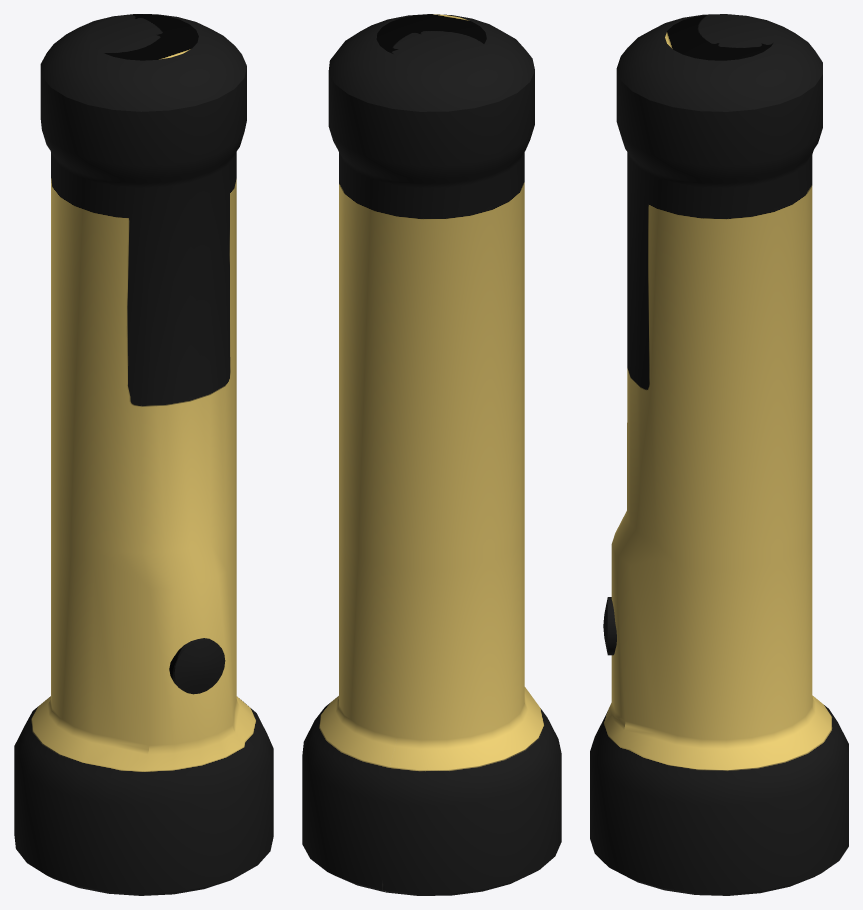
Rendered from flashlight_all.glb.
3 views of the same model, side by side, from view 1: azimuth 30°, elevation 25°; view 2: azimuth 150°, elevation 25°; view 3: azimuth 270°, elevation 25° (orthographic).
Parts seen in each view (by area): view 1: flashlight_low; view 2: flashlight_low; view 3: flashlight_low.
Part boxes in pixels (x1,y1,x2,y2): flashlight_low: [14, 14, 273, 895]; flashlight_low: [302, 14, 561, 895]; flashlight_low: [590, 14, 848, 895].
Bounding box in the file's own units: 2.79 × 9.6 × 2.78.
1 material, 1 textured.
